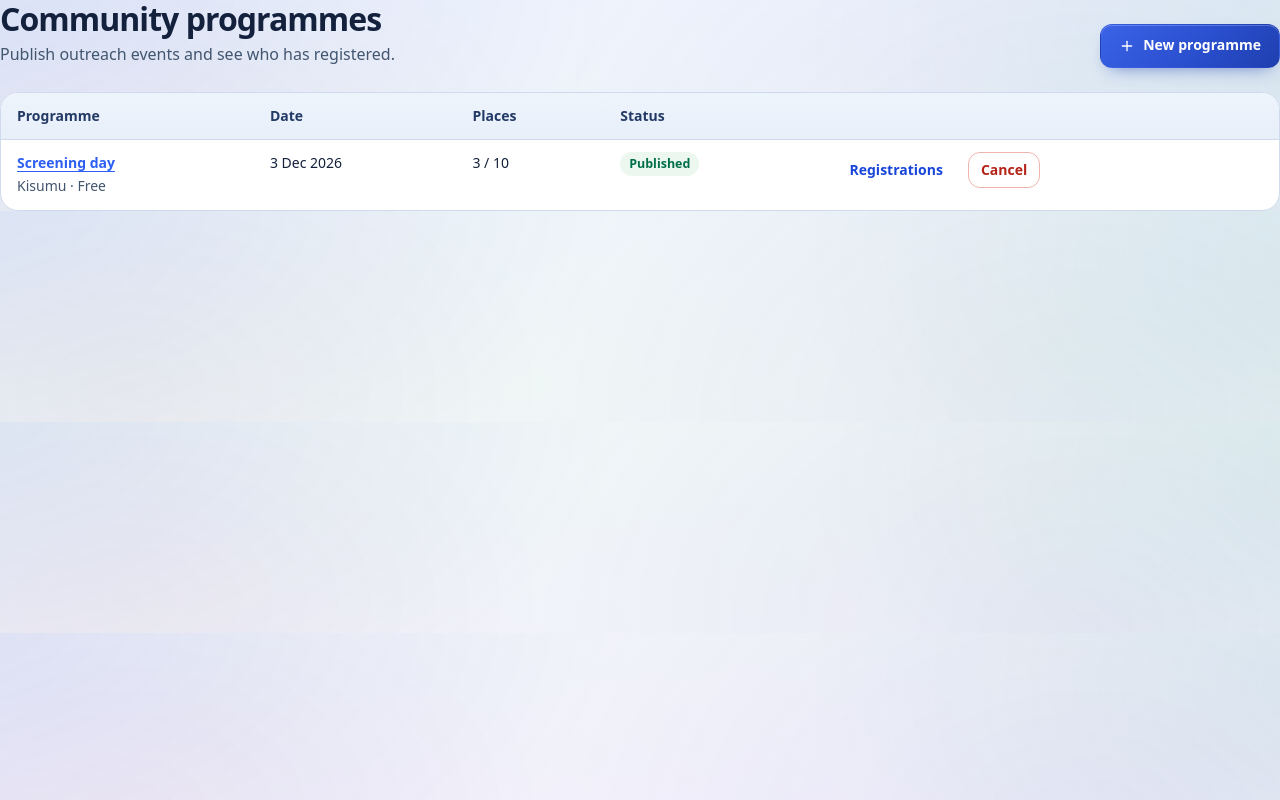
Test: programme attendance › explains that attendance opens on the programme date
The width and height of the screenshot is (1280, 800).
Step 1. Click the button "Registrations" → [896, 170], box [836,152,956,188]
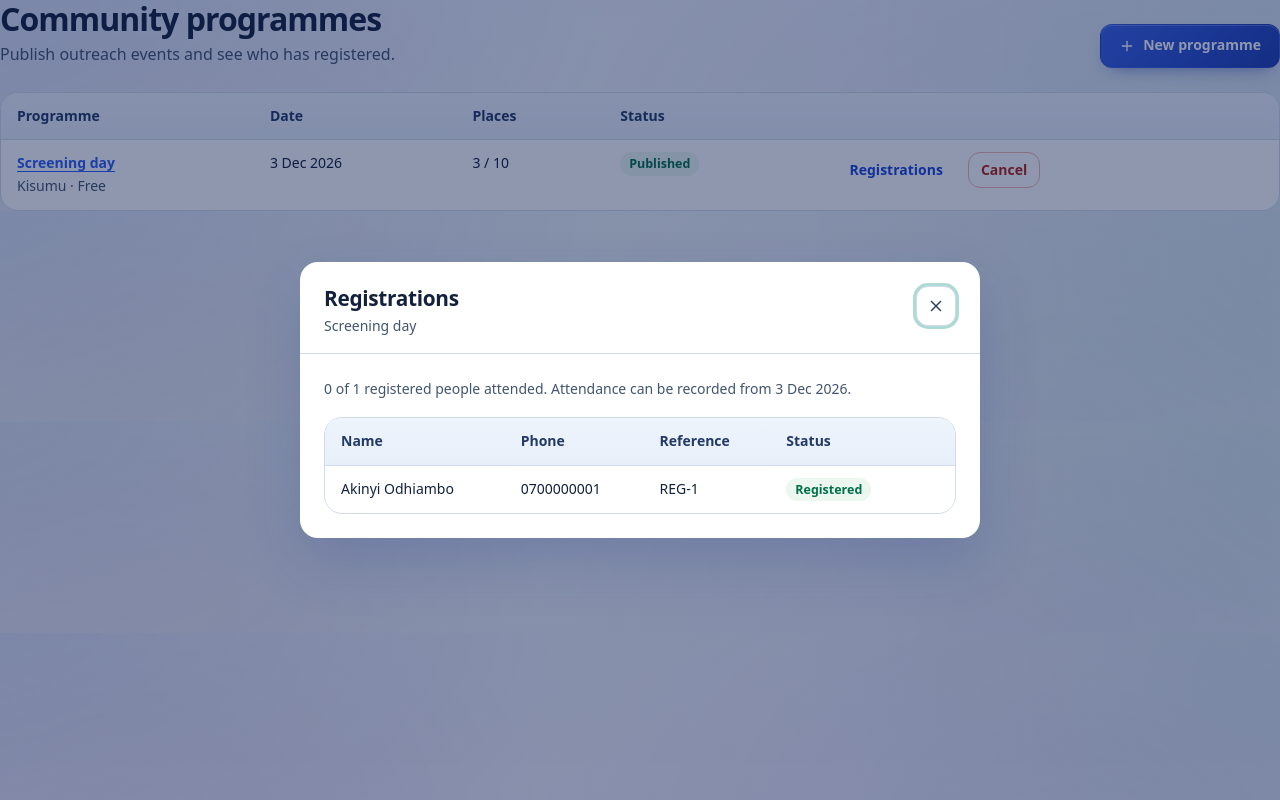
Result: the text "Attendance can be recorded from" is shown at [547,379,851,398]
